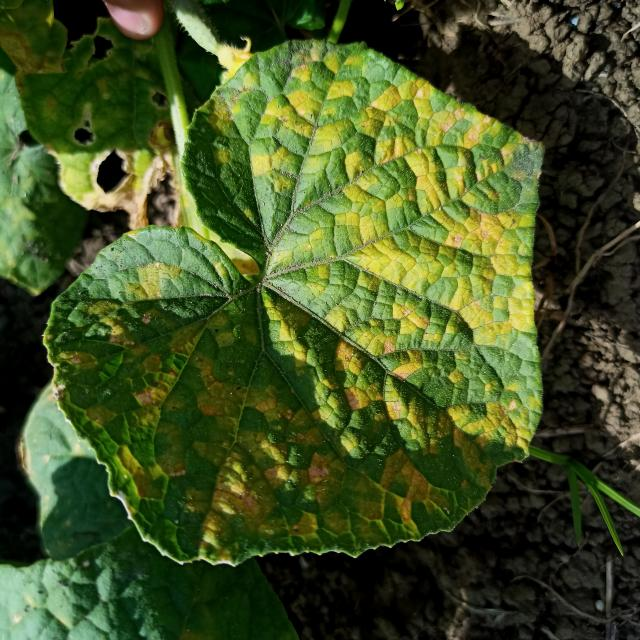disease_cucumber: (81, 56, 534, 555)
